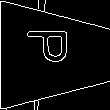P_E: (30, 37, 80, 73)
